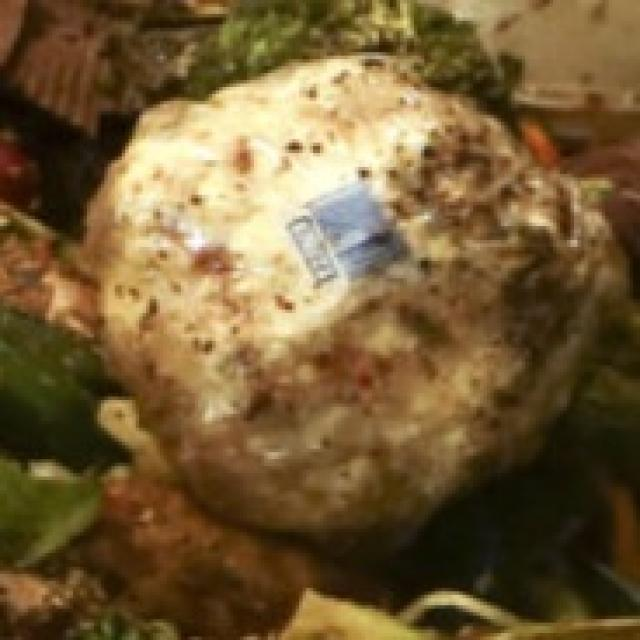food waste: (35, 0, 640, 602)
